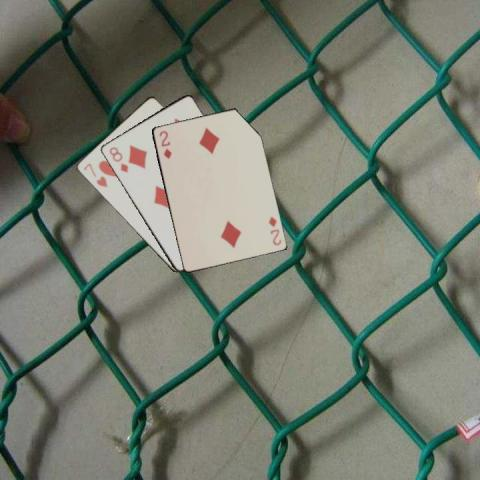2d: (265, 213, 283, 247), (156, 127, 173, 160)
7h: (80, 160, 108, 189)
8d: (106, 144, 129, 174)
